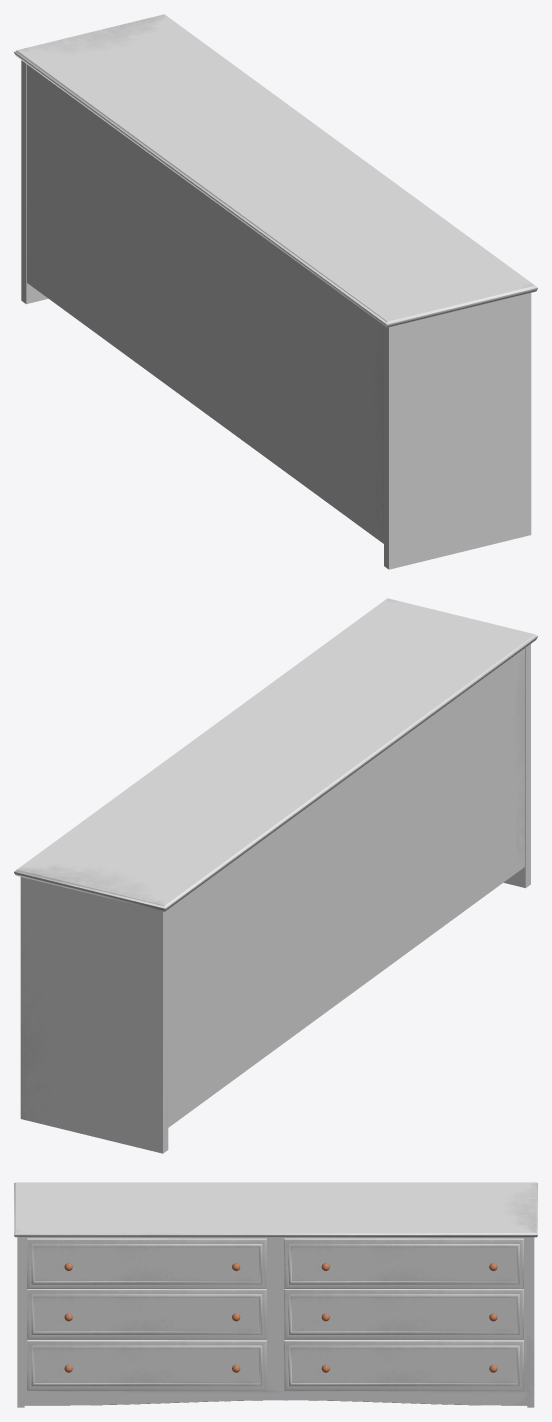
Rendered from dresser.fbx.
The picture shows the model from 3 angles, top to bottom: view 1: azimuth 30°, elevation 25°; view 2: azimuth 150°, elevation 25°; view 3: azimuth 270°, elevation 25°; orthographic projection. The views are drawn at different scales.
Parts seen in each view (by area): view 1: Cube.145; view 2: Cube.145; view 3: Cube.145.
Part boxes in pixels (x1,y1,x2,y2): Cube.145: (14,14,537,569); Cube.145: (14,598,537,1153); Cube.145: (14,1182,537,1407).
Bounding box in the file's own units: 54.93 × 81.28 × 220.
